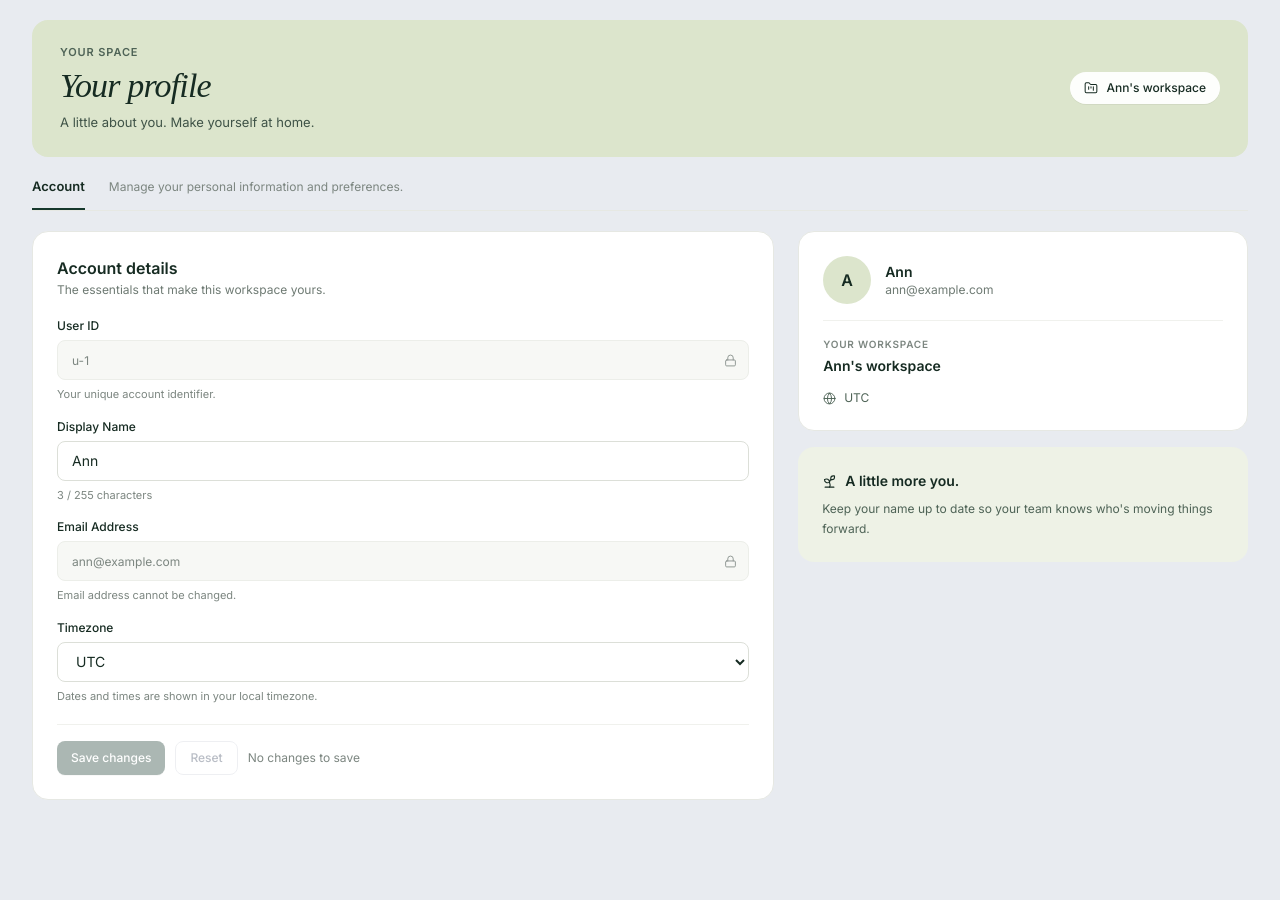
Test case: ProfilePage › unsaved changes, reset, counter and avatar › reset restores saved values and the form is clean again
The image size is (1280, 900).
Type " Smith" into the field labelled "Display Name" at (403, 460), box [57, 440, 749, 480]
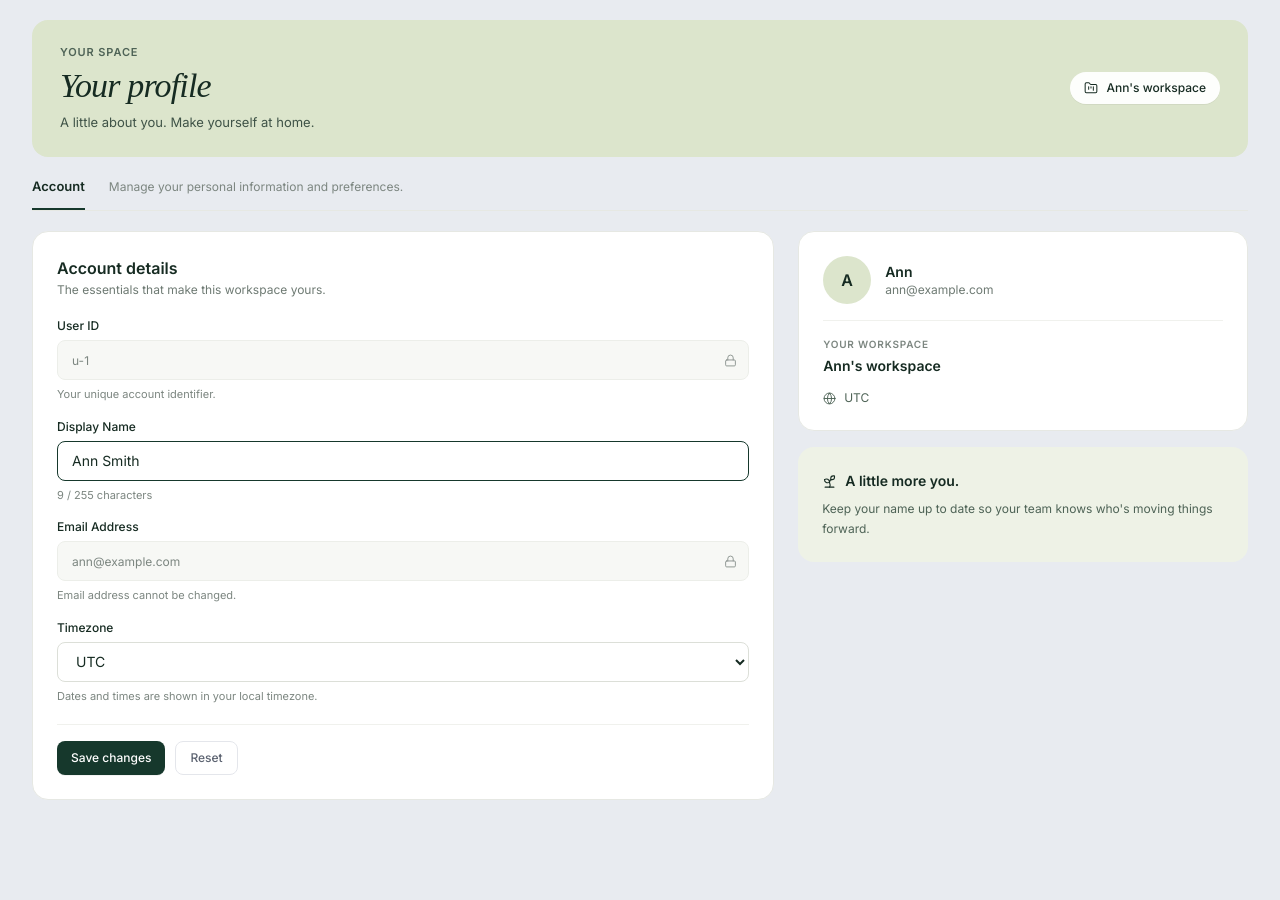
Select "Europe/Paris" in the dropdown labelled "Timezone" at (403, 662), box [57, 642, 749, 682]
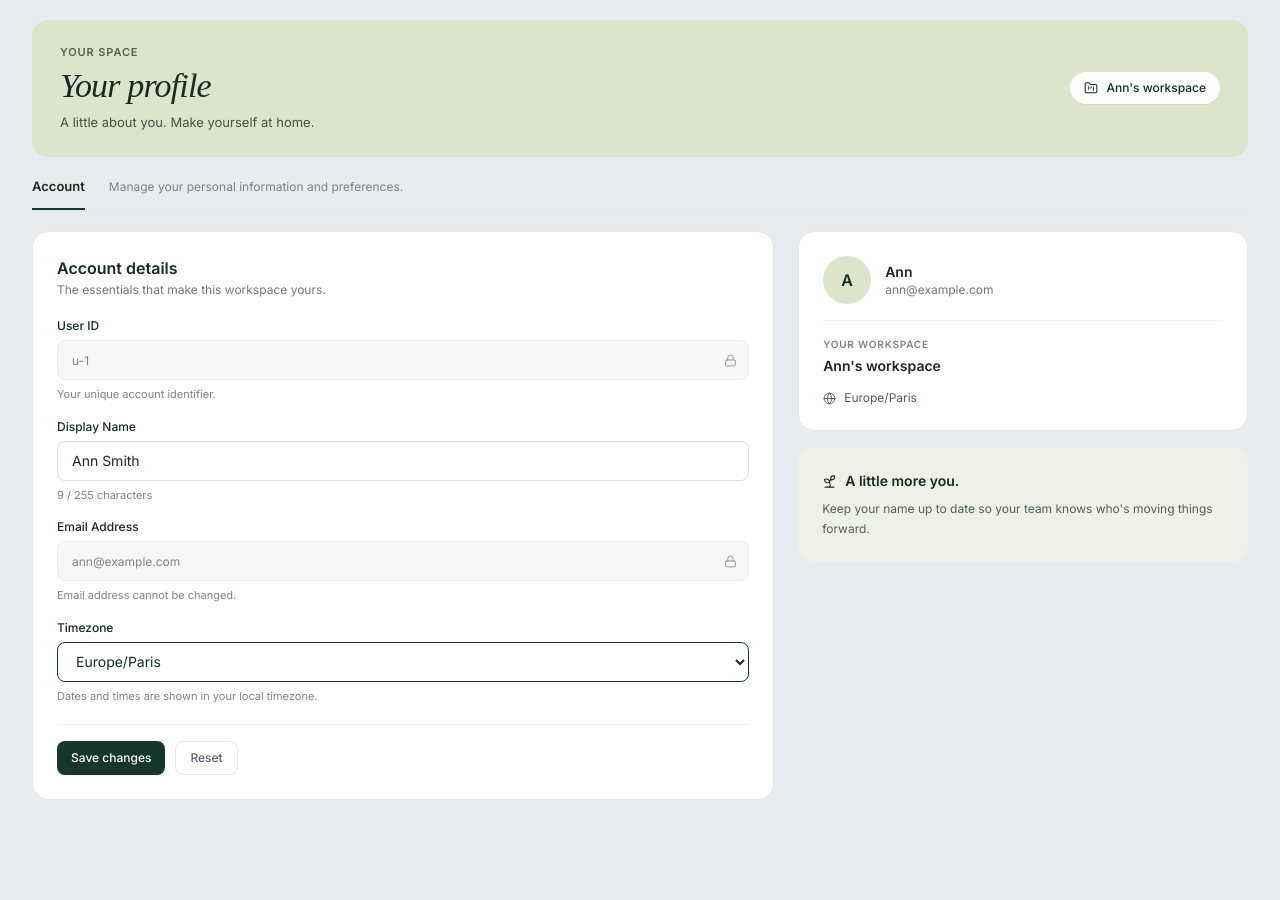
Click the button "Reset" at (207, 758), box [175, 741, 238, 775]
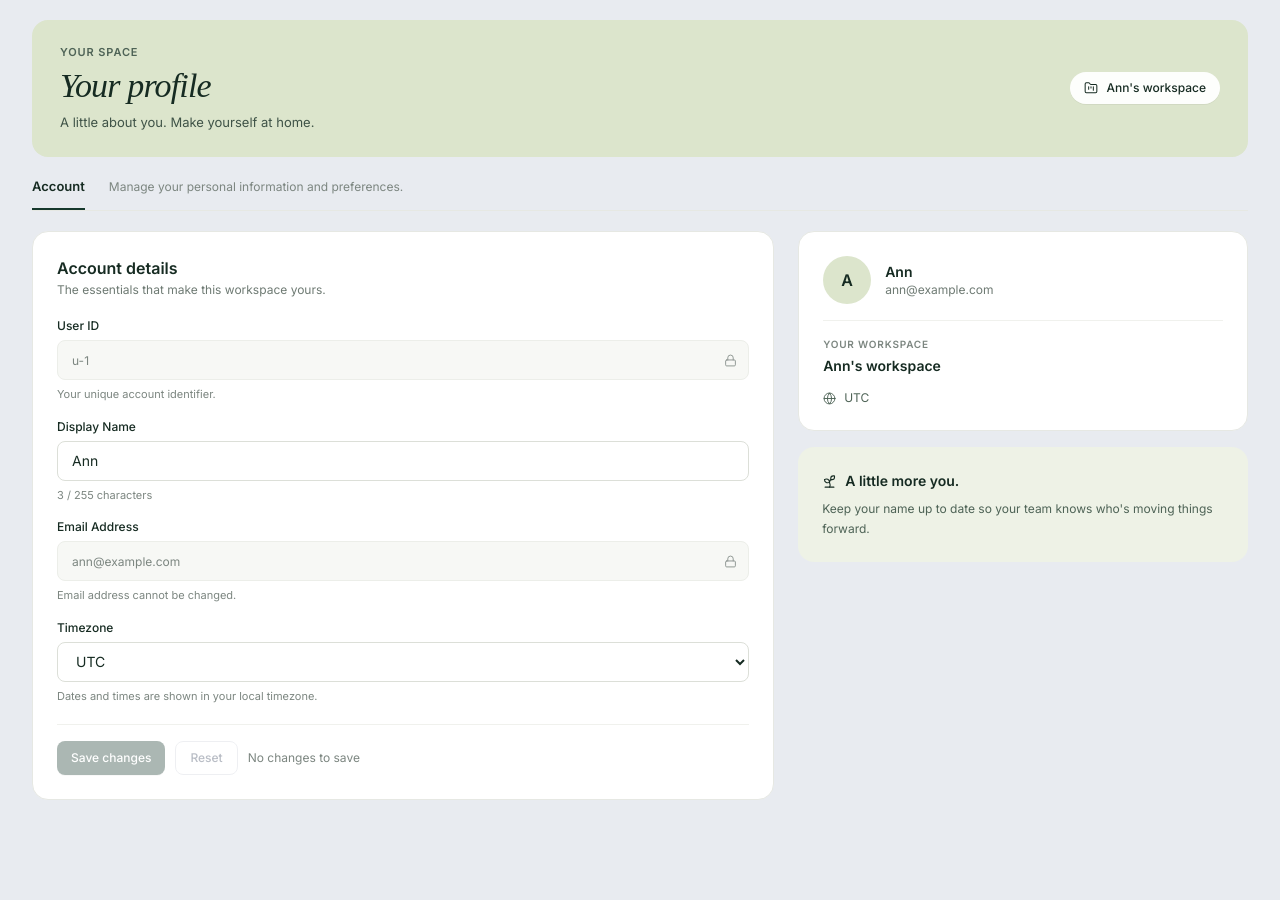
Now the field labelled "Display Name" holds "Ann", box [57, 440, 749, 480]
Now the button "Save changes" is disabled, box [57, 741, 165, 775]
Now the button "Reset" is disabled, box [175, 741, 238, 775]
